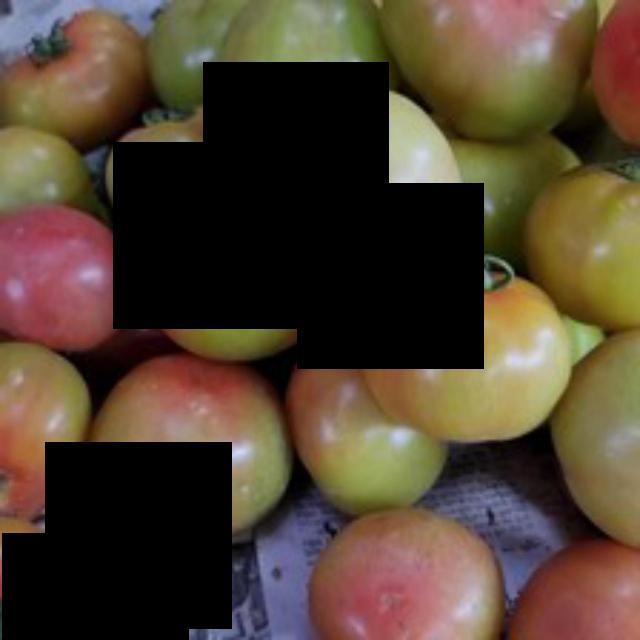tomato: (294, 500, 540, 637), (0, 197, 143, 369)
